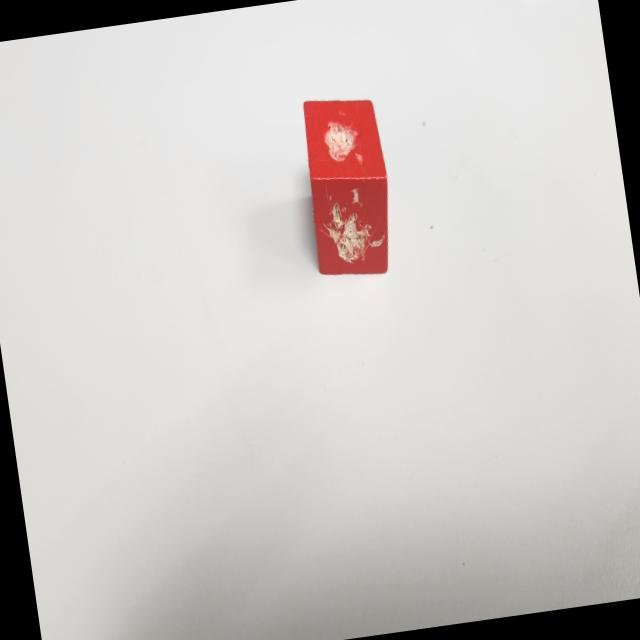broken: (294, 91, 401, 283)
